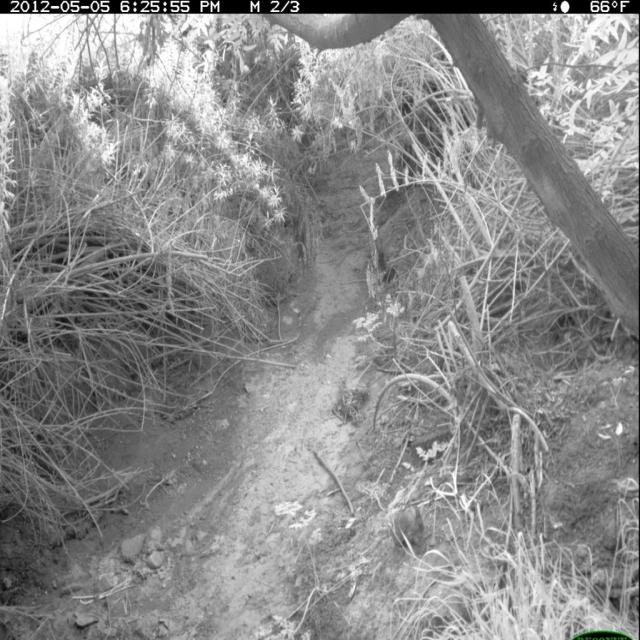rabbit: (387, 499, 429, 554)
